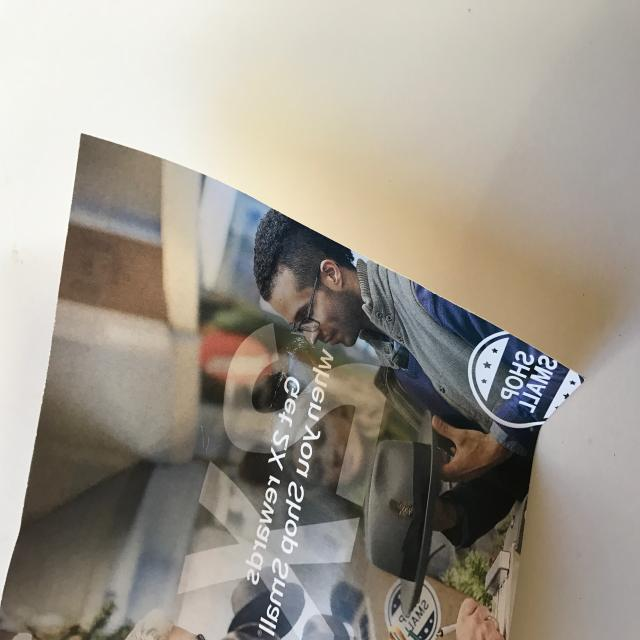paper: (0, 102, 588, 640)
